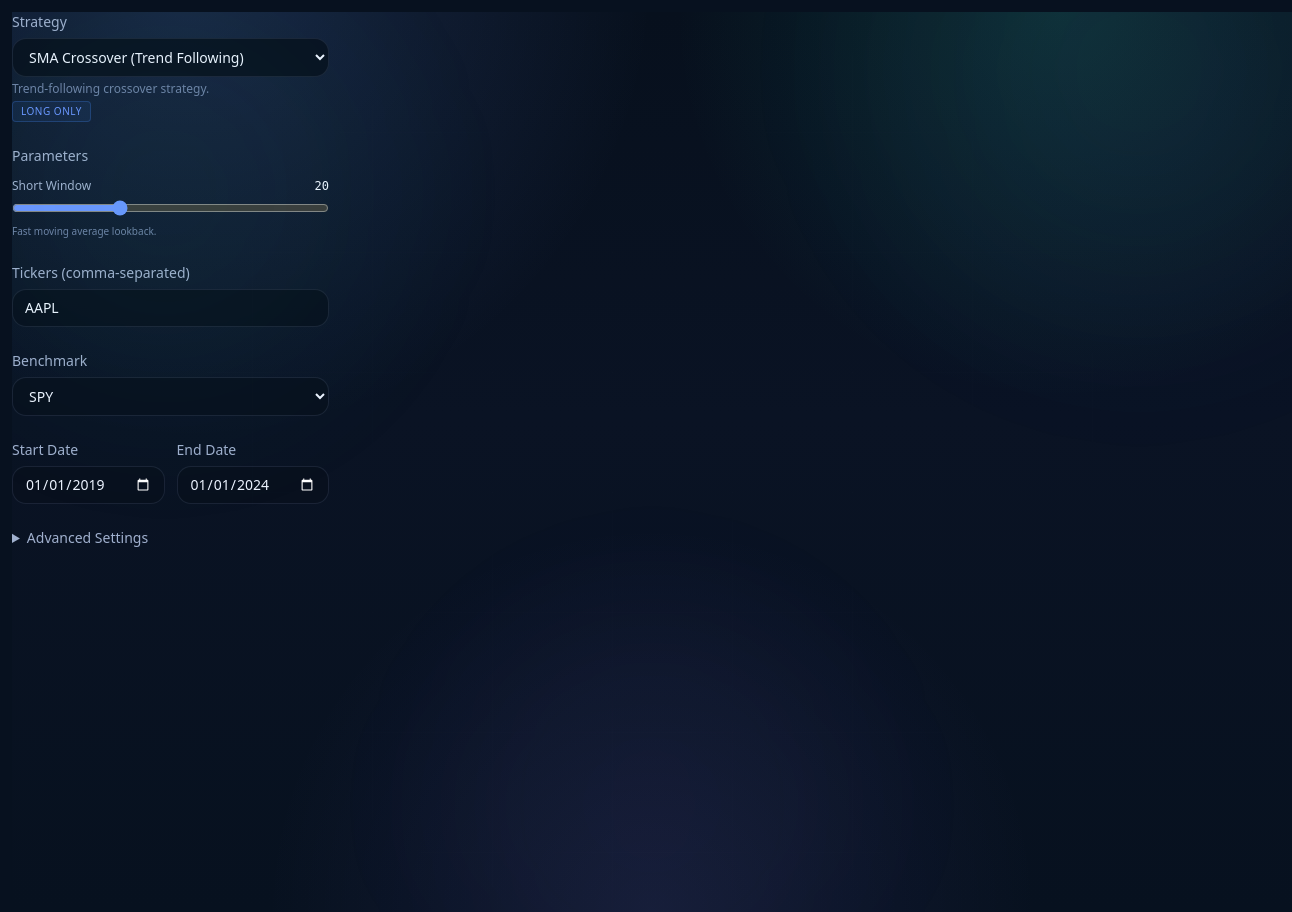
StrategyForm › supports boolean and select strategy params
The image size is (1292, 912).
Select "Custom Hybrid (Custom)" in the dropdown labelled "Strategy" at {"x": 170, "y": 58}, box [12,38,329,77]
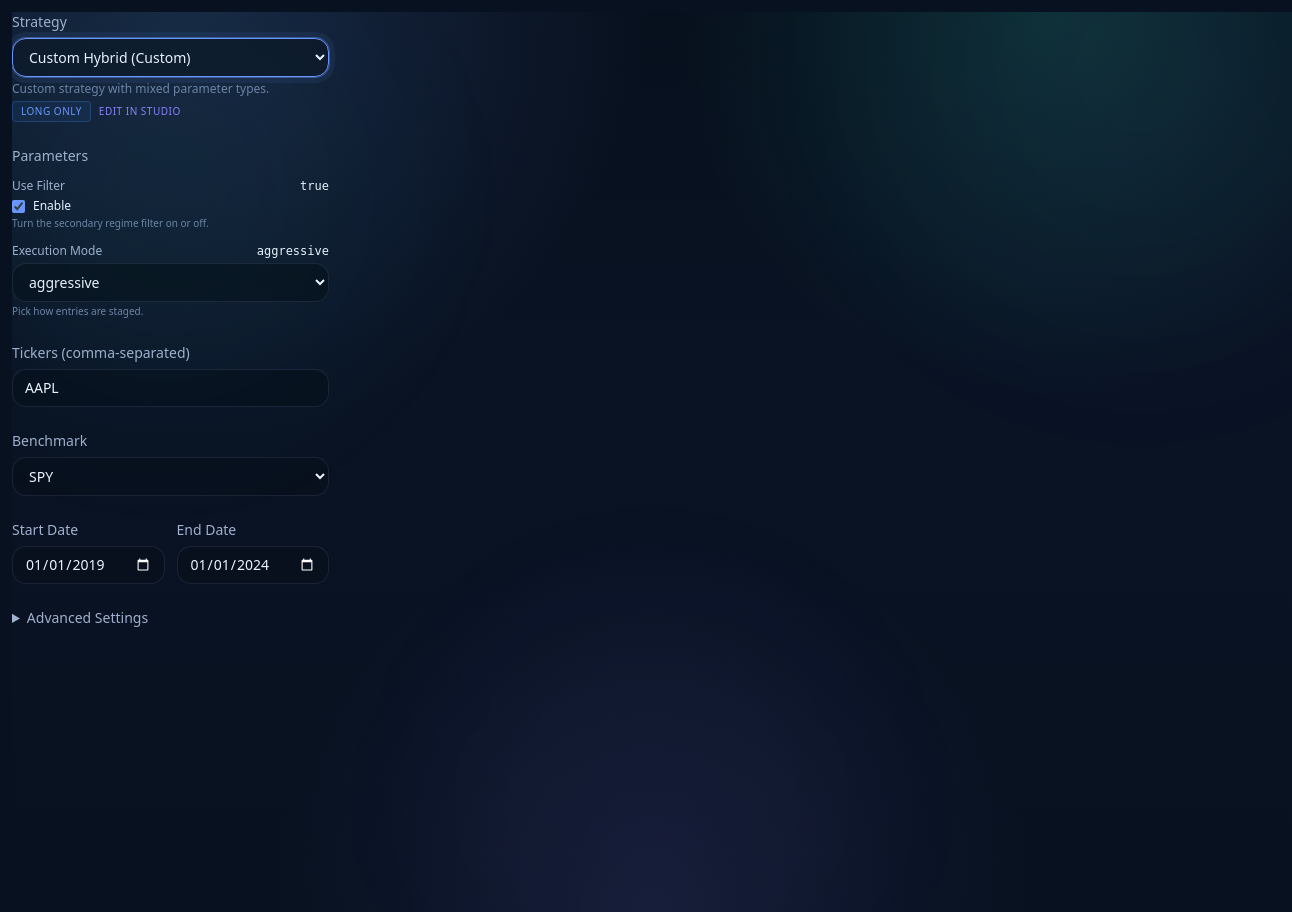
Now the link "Edit in studio" is shown, box [99,104,181,119]
Now the checkbox labelled "Enable" is checked
Click the checkbox labelled "Enable" at {"x": 18, "y": 206}, box [12,200,25,212]
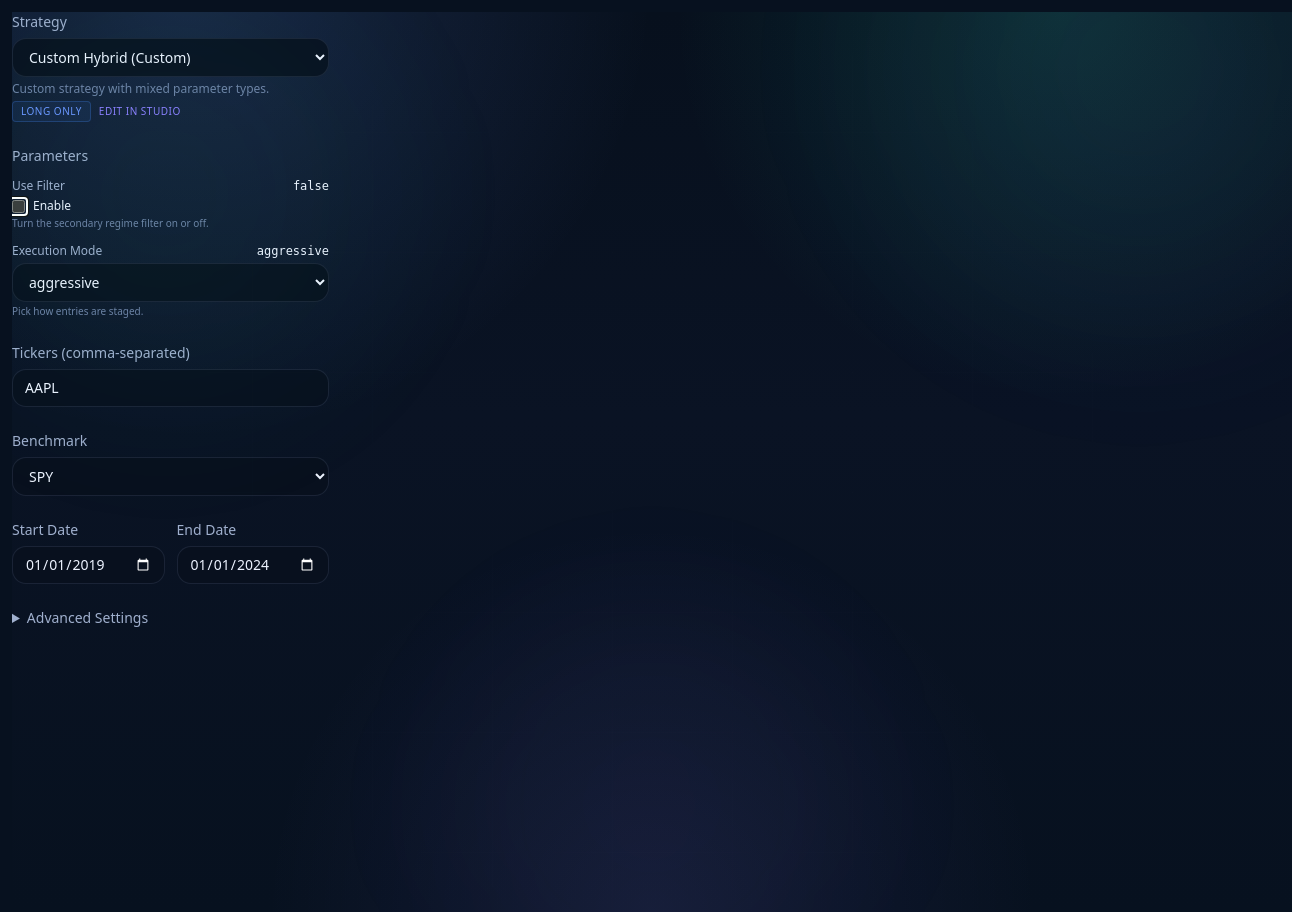
Select "passive" in the dropdown showing "aggressive" at {"x": 170, "y": 282}, box [12,263,329,302]
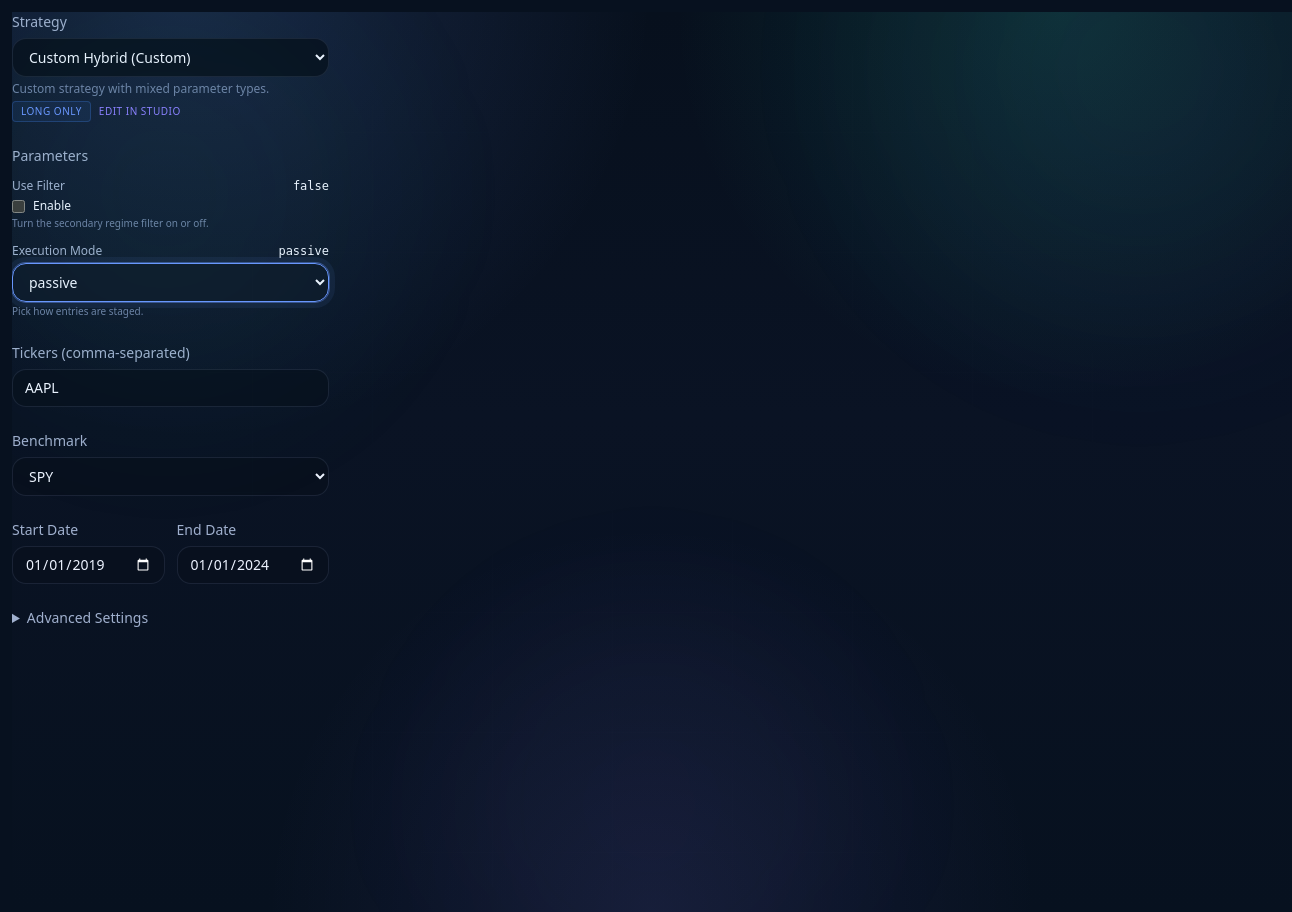
Now the text "passive" is shown, box [278,243,329,259]
